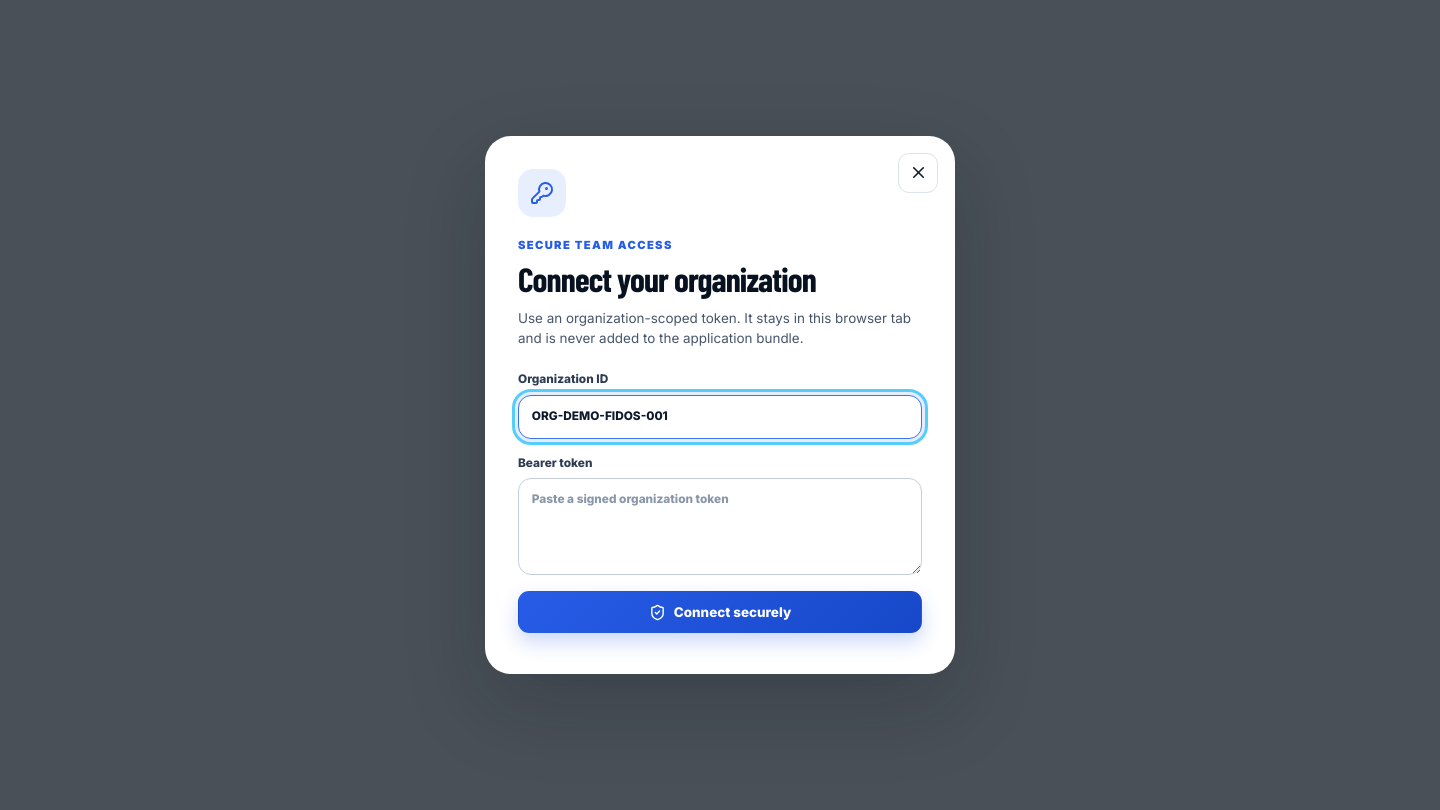
it: SessionDialog › explains malformed credentials instead of storing them
Step 1. Type "not-a-token" into the text box labelled "Bearer token" → (720, 527), box [518, 478, 922, 575]
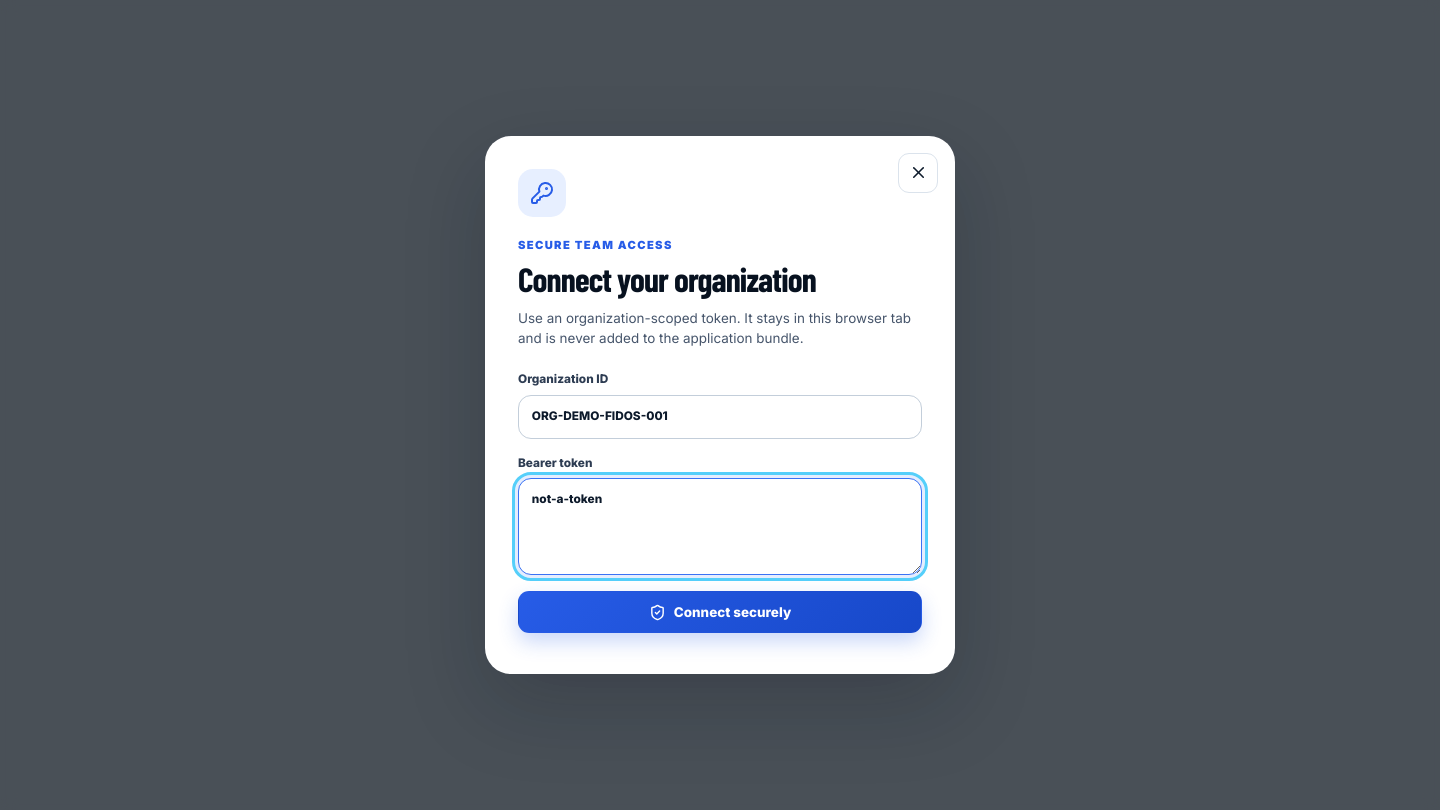
Step 2. Click the button "Connect securely" → (720, 612), box [518, 591, 922, 633]
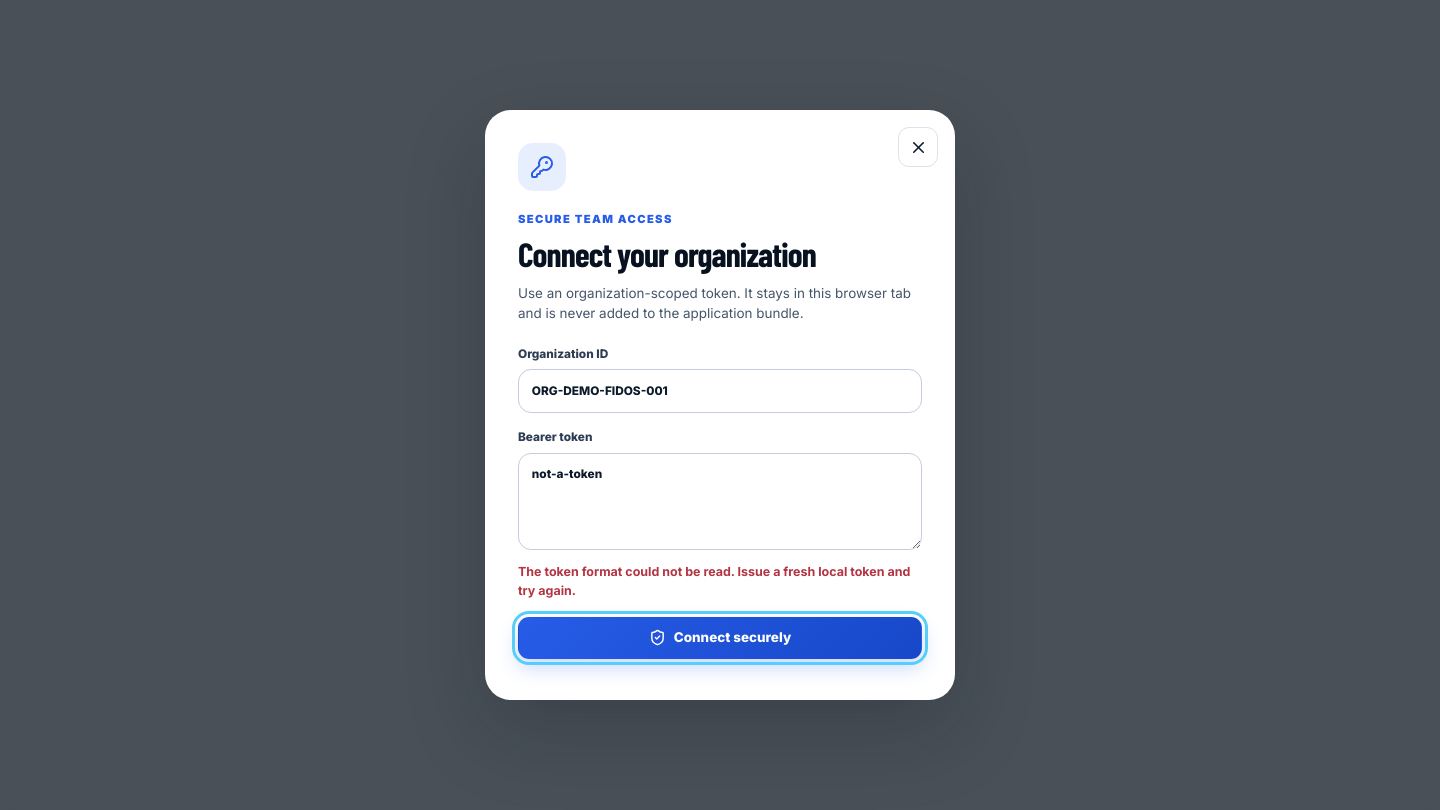
Now the message shows "token format", box [518, 564, 910, 598]
